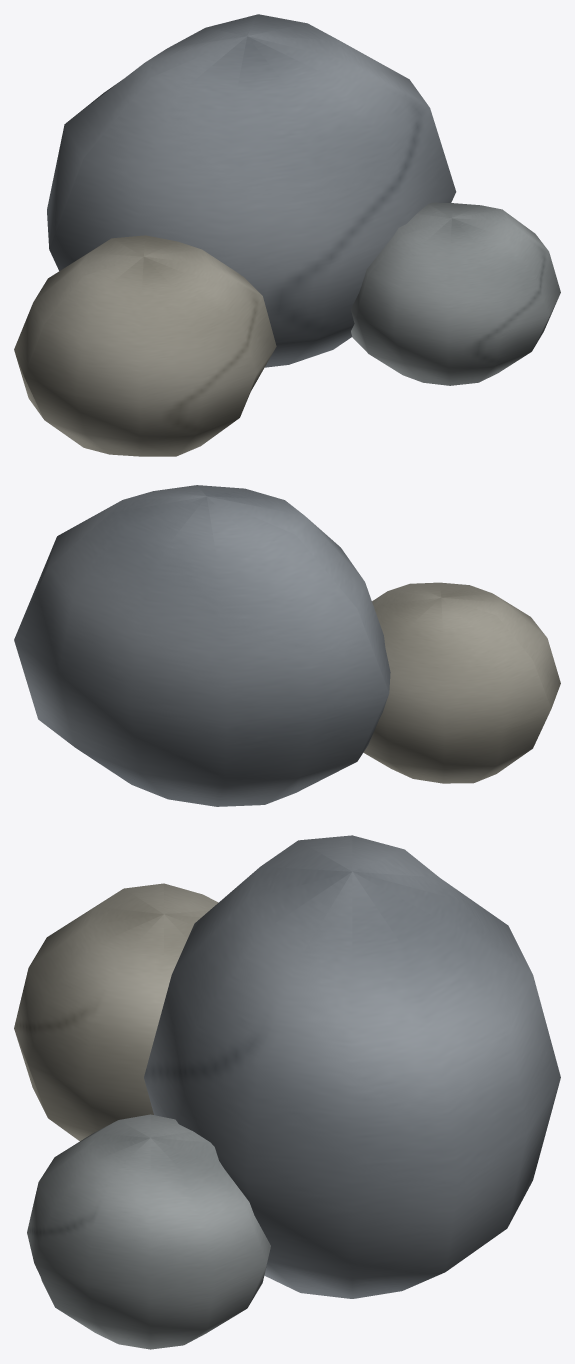
Rendered from stone_pickup.glb.
The picture shows the model from 3 angles, top to bottom: view 1: azimuth 30°, elevation 25°; view 2: azimuth 150°, elevation 25°; view 3: azimuth 270°, elevation 25°; orthographic projection. The views are drawn at different scales.
Visible parts, largest first — view 1: StonePickup_v001; view 2: StonePickup_v001; view 3: StonePickup_v001.
Part boxes in pixels (left/top/right/bottom): StonePickup_v001: left=14, top=14, right=560, bottom=456; StonePickup_v001: left=14, top=485, right=560, bottom=806; StonePickup_v001: left=14, top=835, right=560, bottom=1349.
Size of the model in its own units: 0.55 by 0.3 by 0.4.
Materials: 1 (1 with a texture image).
